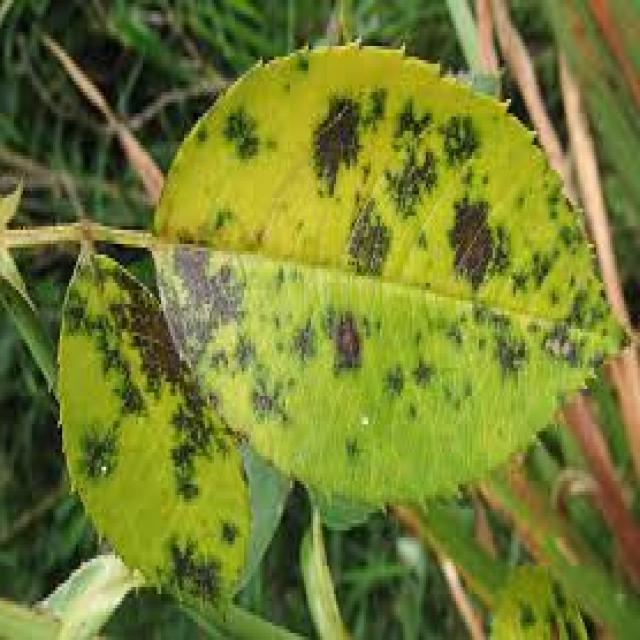black-spot: (373, 147, 522, 326)
